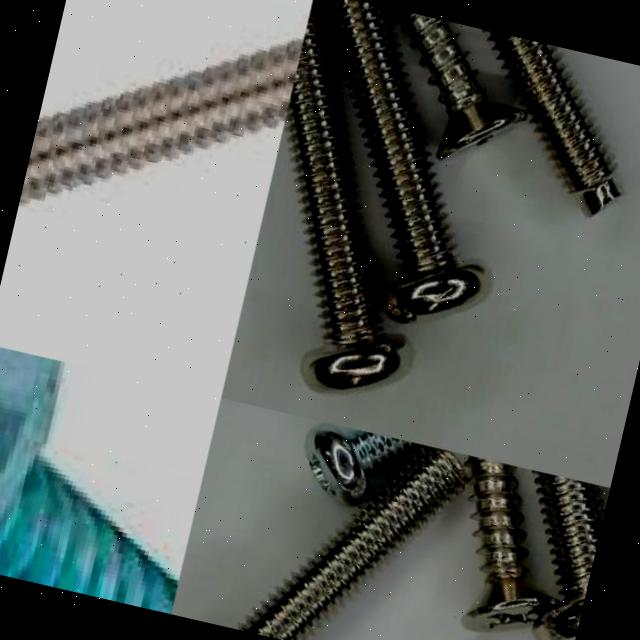Screw: (18, 31, 305, 205), (332, 0, 485, 323), (0, 347, 178, 614), (287, 0, 403, 390), (237, 446, 463, 640), (488, 30, 618, 214), (402, 11, 528, 158), (461, 455, 557, 632), (533, 470, 603, 640), (305, 429, 422, 504)
